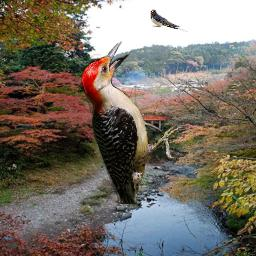Swallow: (150, 9, 188, 32)
Woodpecker: (81, 41, 189, 204)
